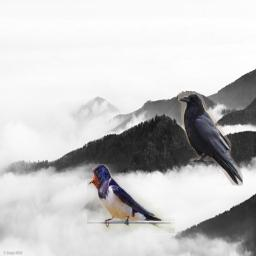Crow: (178, 92, 243, 186)
Swallow: (87, 164, 175, 233)
